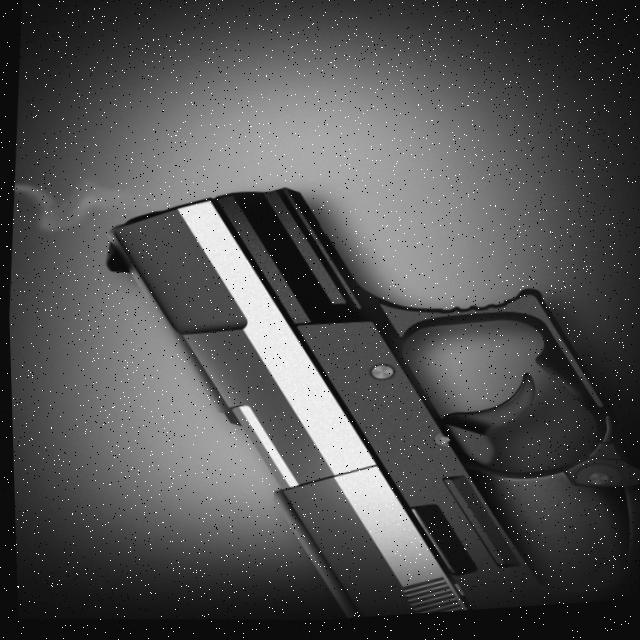pistol: (75, 157, 640, 636)
